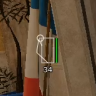hacks_1: (35, 33, 59, 74)
